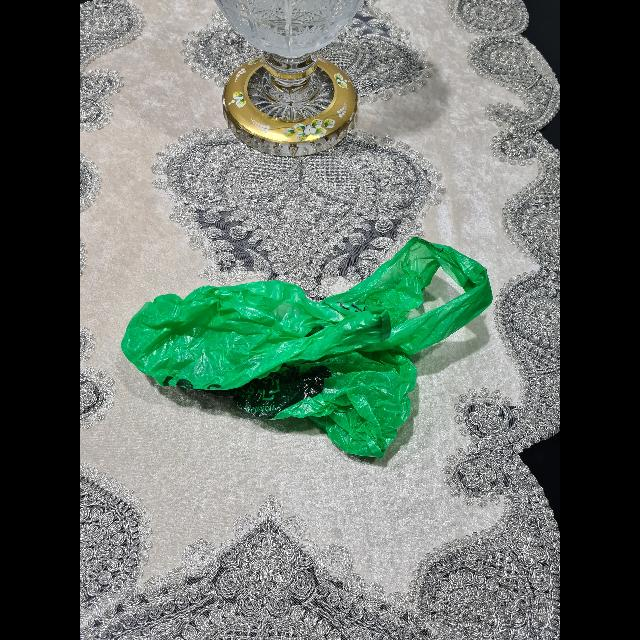plastic_bag: (130, 236, 506, 464)
